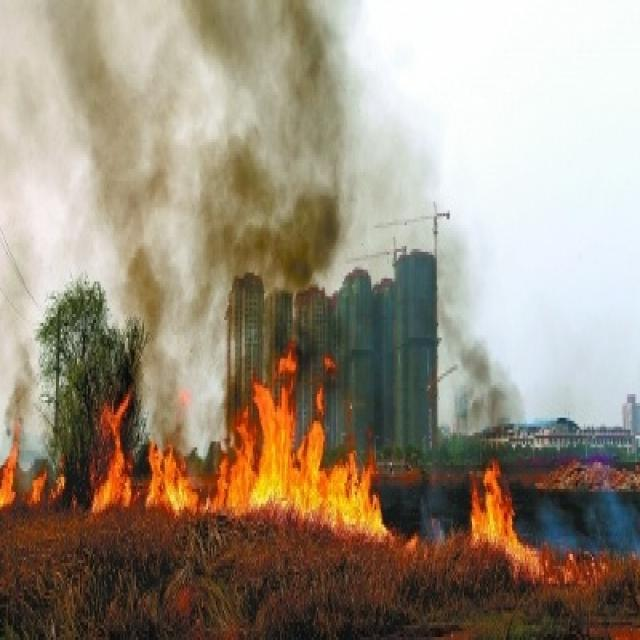Fire: (204, 341, 392, 539), (467, 458, 541, 578), (87, 391, 133, 518), (140, 435, 198, 517), (0, 424, 23, 510), (26, 468, 46, 510)
Smoke: (34, 1, 205, 427), (361, 104, 530, 453), (204, 6, 360, 341), (0, 0, 35, 430)
